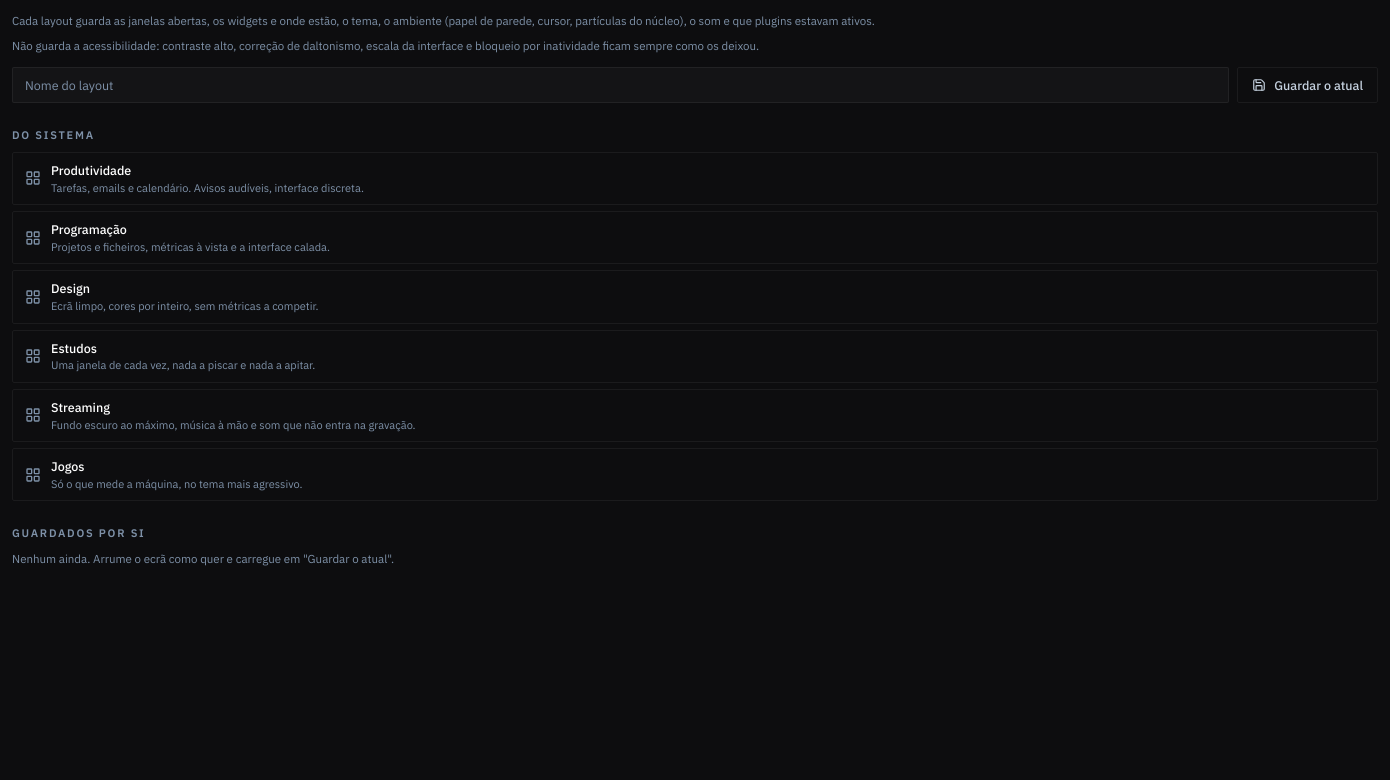
Test: layouts guardados › guardar o estado atual cria um layout com o nome escrito
Type "Manhã" into the field named "Nome do layout a guardar" at (621, 85), box [12,66,1229,103]
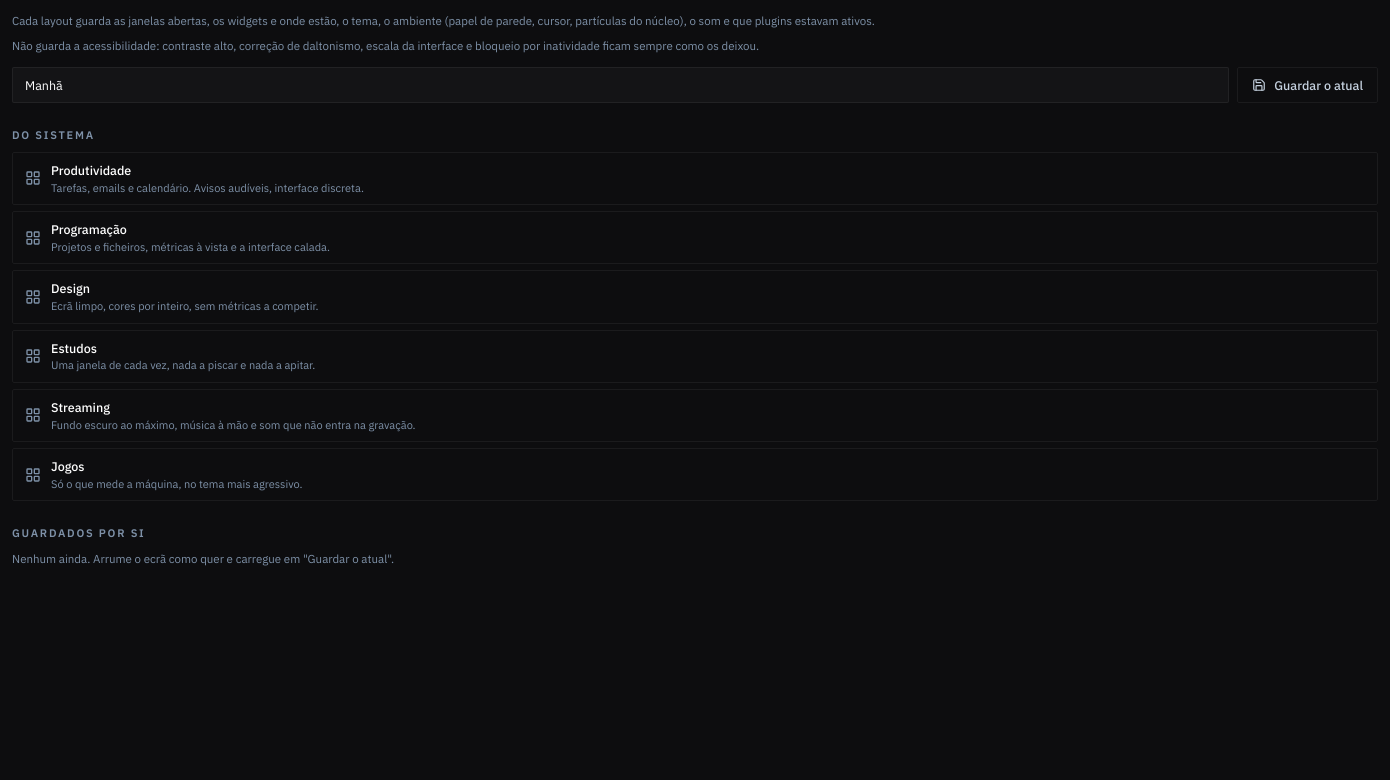
Click the button "Guardar o atual" at (1308, 85), box [1237,66,1378,103]
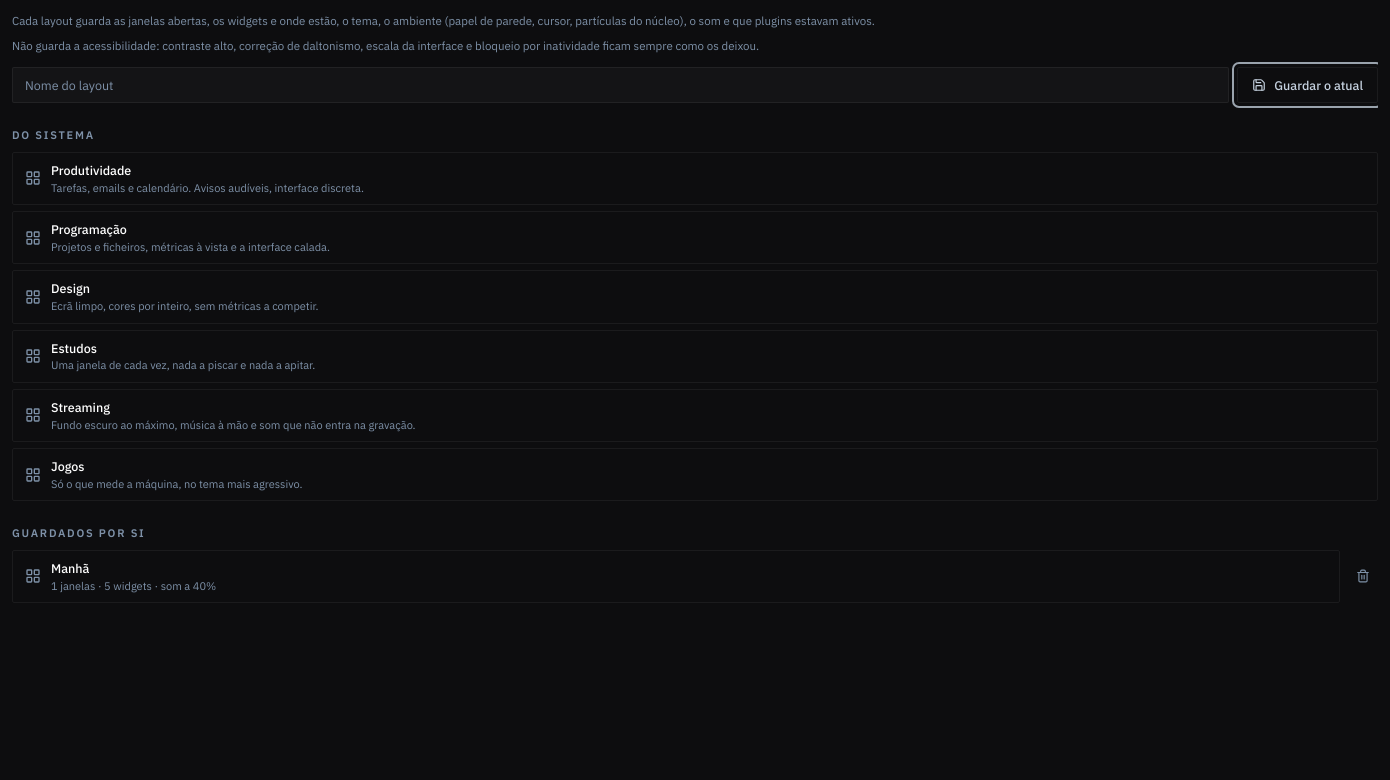
Expected: the text "Manhã" is shown, [51,560,89,576]
